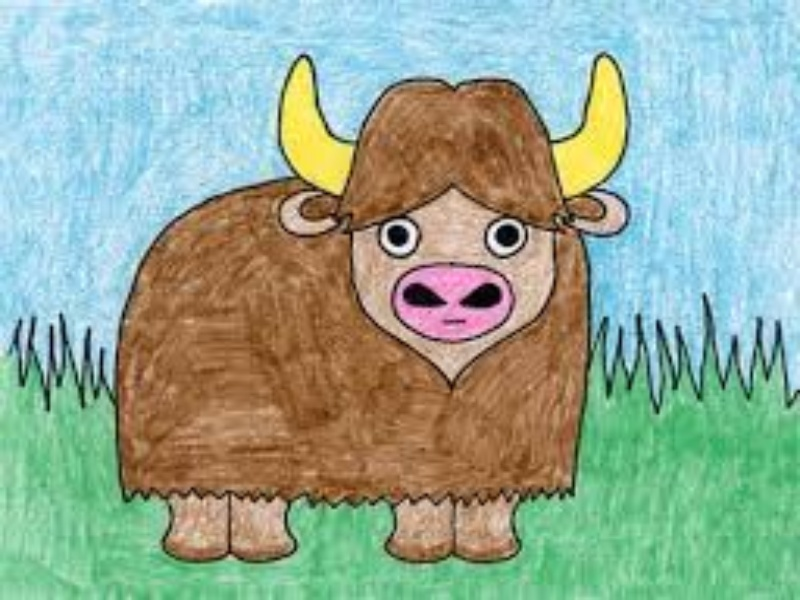buffalo: (114, 48, 640, 573)
